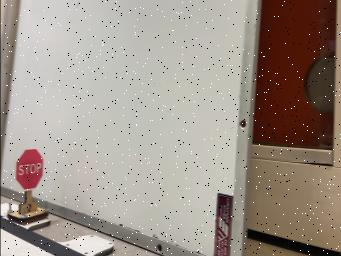stop: (7, 148, 47, 225), (7, 148, 47, 225), (7, 148, 47, 225), (7, 148, 47, 225), (7, 148, 47, 225), (7, 148, 47, 225)
street: (0, 216, 86, 256), (0, 216, 86, 256), (0, 216, 86, 256), (0, 216, 86, 256), (0, 216, 86, 256), (0, 216, 86, 256)
